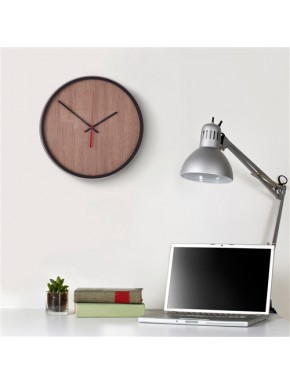clock: (42, 77, 144, 178)
